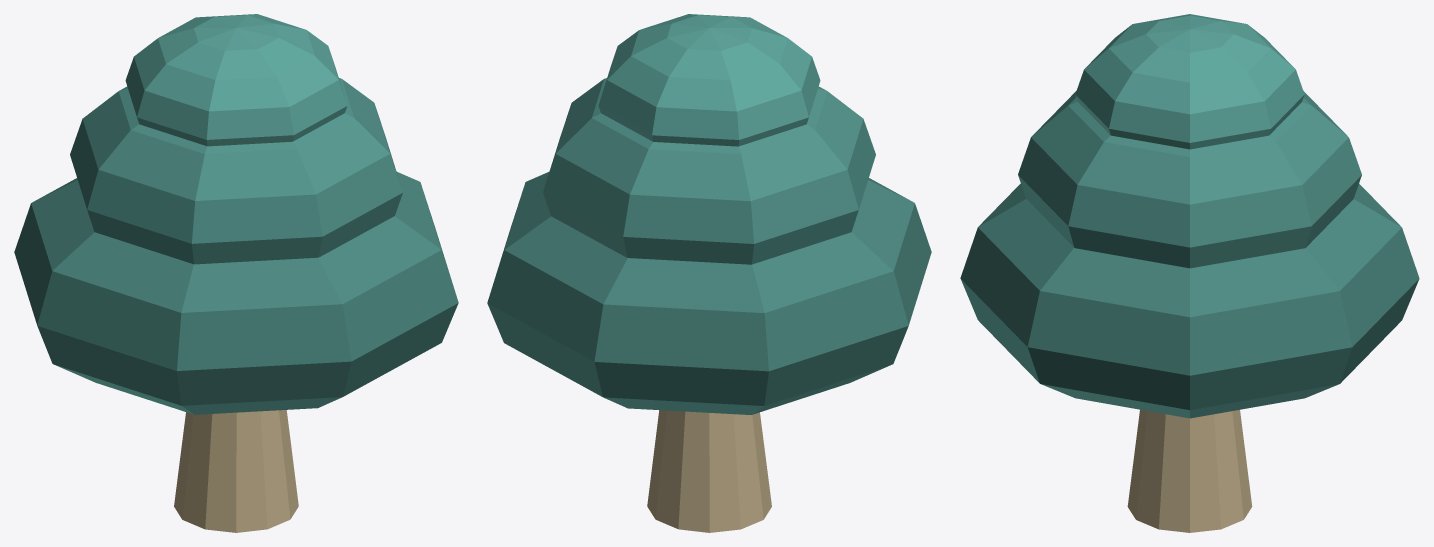
File: Tree Dark.fbx
The picture shows the model from 3 angles, left to right: view 1: azimuth 30°, elevation 25°; view 2: azimuth 150°, elevation 25°; view 3: azimuth 270°, elevation 25°; orthographic projection.
Parts seen in each view (by area): view 1: pSphere3, pSphere2, pSphere1, pCylinder1; view 2: pSphere3, pSphere2, pSphere1, pCylinder1; view 3: pSphere3, pSphere2, pSphere1, pCylinder1.
Boxes of the visible parts, x1=… form: pSphere3: x1=14, y1=171, x2=458, y2=414; pSphere2: x1=70, y1=78, x2=402, y2=264; pSphere1: x1=125, y1=14, x2=347, y2=146; pCylinder1: x1=174, y1=410, x2=298, y2=532; pSphere3: x1=487, y1=172, x2=931, y2=414; pSphere2: x1=543, y1=78, x2=875, y2=264; pSphere1: x1=598, y1=14, x2=820, y2=146; pCylinder1: x1=647, y1=410, x2=771, y2=532; pSphere3: x1=960, y1=183, x2=1419, y2=418; pSphere2: x1=1018, y1=91, x2=1361, y2=268; pSphere1: x1=1075, y1=14, x2=1304, y2=149; pCylinder1: x1=1127, y1=409, x2=1252, y2=532.
Size of the model in its own units: 5.66 by 6.5 by 5.66.
